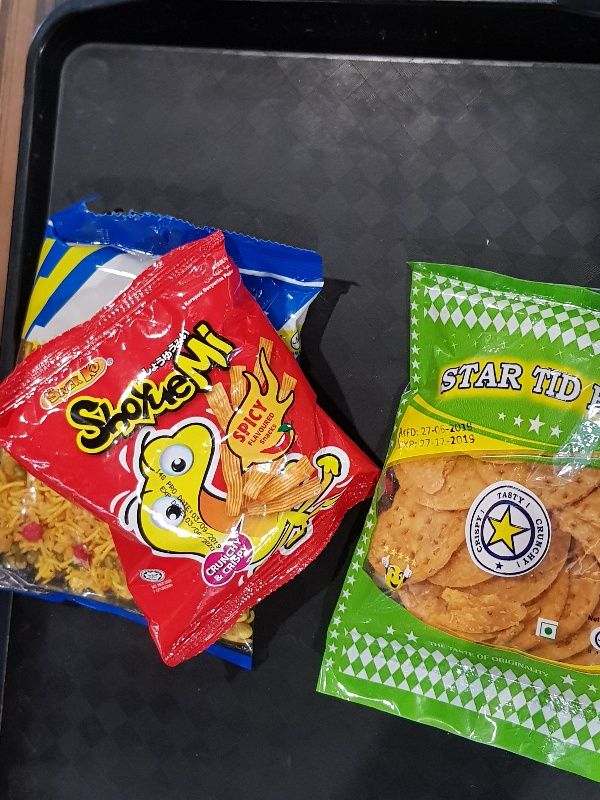ShoyueMi Spicy Flavoured Snacks: (2, 227, 382, 668)
Star Tidbits 'O' Ring: (315, 261, 600, 784)
Star Tidbits Mixer: (1, 197, 325, 671)
